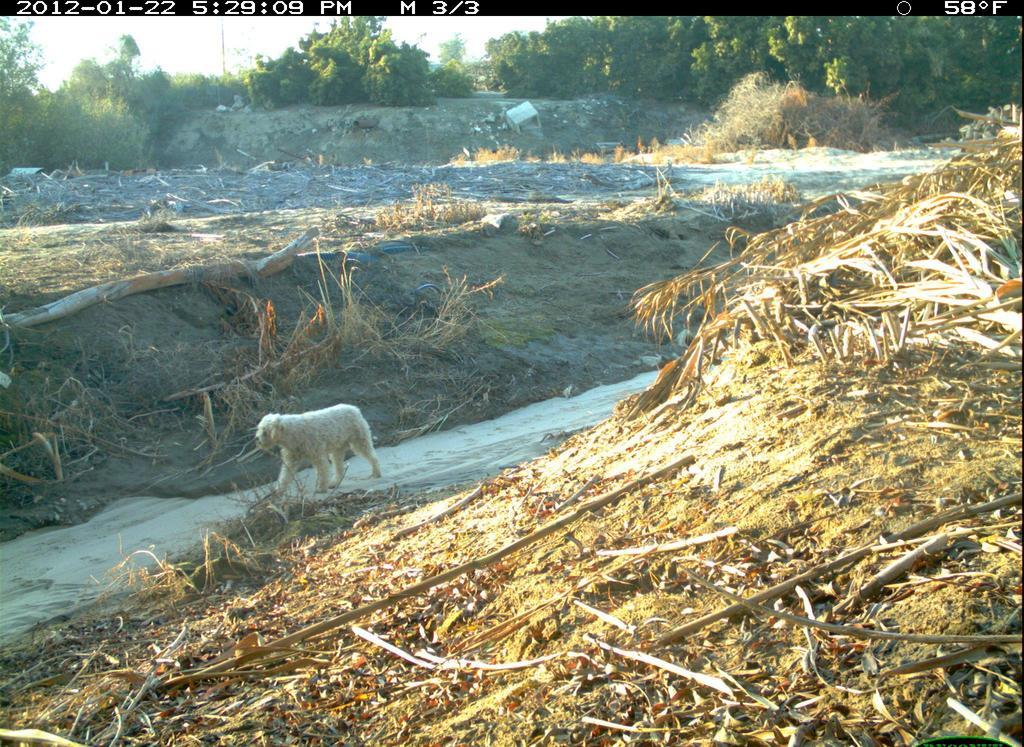dog: (250, 402, 393, 510)
